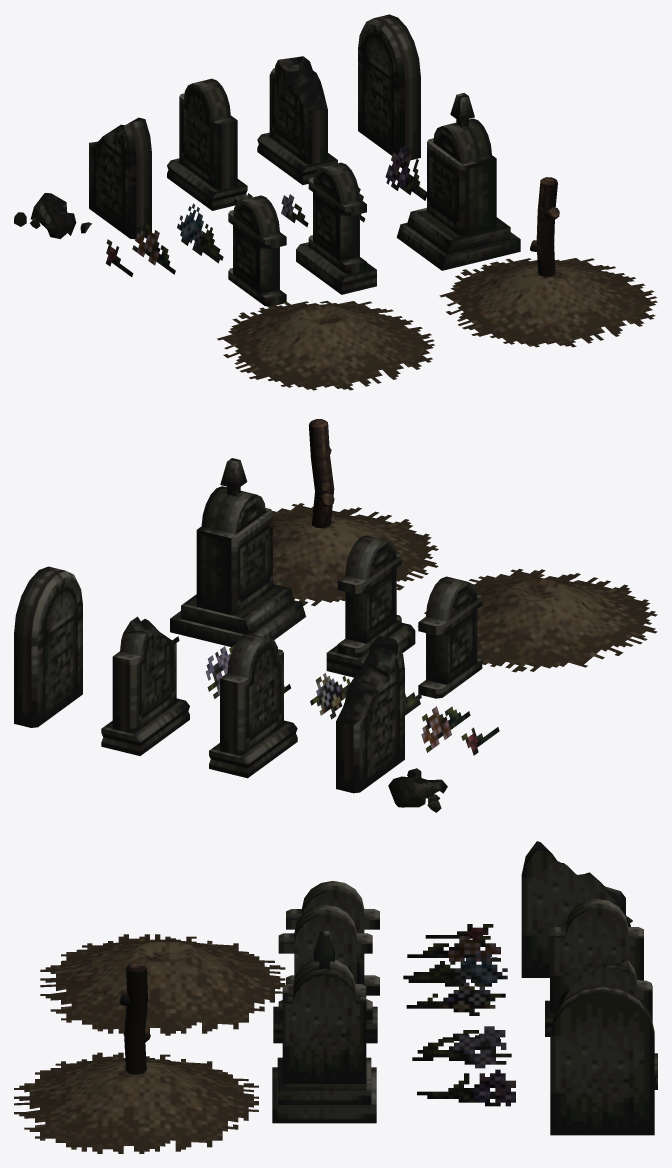
The model's file is EnvObjMD_Cemetery_A_Debris.FBX.
The picture shows the model from 3 angles, top to bottom: view 1: azimuth 30°, elevation 25°; view 2: azimuth 150°, elevation 25°; view 3: azimuth 270°, elevation 25°; orthographic projection. The views are drawn at different scales.
Parts seen in each view (by area): view 1: EnvObjMD_Cemetery_A_WoodStick, EnvObjMD_Cemetery_A_WoodStick_DesertSand, EnvObjMD_Cemetery_A_Shape_L, EnvObjMD_Cemetery_A_Round, EnvObjMD_Cemetery_A_Edge, EnvObjMD_Cemetery_A_Edge_Broken, EnvObjMD_Cemetery_A_Shape_M, EnvObjMD_Cemetery_A_Round_Broken, EnvObjMD_Cemetery_A_Shape_S, EnvObjMD_Cemetery_A_Debris, EnvObjMD_Cemetery_A_Flower_PaleBlue, EnvObjMD_Cemetery_A_Flower_Purple (+1 smaller); view 2: EnvObjMD_Cemetery_A_WoodStick_DesertSand, EnvObjMD_Cemetery_A_Shape_L, EnvObjMD_Cemetery_A_WoodStick, EnvObjMD_Cemetery_A_Round, EnvObjMD_Cemetery_A_Edge, EnvObjMD_Cemetery_A_Round_Broken, EnvObjMD_Cemetery_A_Edge_Broken, EnvObjMD_Cemetery_A_Shape_M, EnvObjMD_Cemetery_A_Shape_S, EnvObjMD_Cemetery_A_Debris, EnvObjMD_Cemetery_A_Flower_Pink, EnvObjMD_Cemetery_A_Flower_Mix (+1 smaller); view 3: EnvObjMD_Cemetery_A_WoodStick, EnvObjMD_Cemetery_A_WoodStick_DesertSand, EnvObjMD_Cemetery_A_Shape_L, EnvObjMD_Cemetery_A_Round, EnvObjMD_Cemetery_A_Edge, EnvObjMD_Cemetery_A_Round_Broken, EnvObjMD_Cemetery_A_Shape_M, EnvObjMD_Cemetery_A_Shape_S, EnvObjMD_Cemetery_A_Flower_PaleBlue, EnvObjMD_Cemetery_A_Flower_Lily, EnvObjMD_Cemetery_A_Edge_Broken, EnvObjMD_Cemetery_A_Flower_Purple (+3 smaller).
Boxes of the visible parts, box(x1,y1,x2,y2) form: EnvObjMD_Cemetery_A_WoodStick: box(439, 177, 657, 347); EnvObjMD_Cemetery_A_WoodStick_DesertSand: box(217, 301, 434, 390); EnvObjMD_Cemetery_A_Shape_L: box(396, 93, 520, 270); EnvObjMD_Cemetery_A_Round: box(358, 14, 420, 159); EnvObjMD_Cemetery_A_Edge: box(167, 78, 247, 210); EnvObjMD_Cemetery_A_Edge_Broken: box(257, 56, 337, 184); EnvObjMD_Cemetery_A_Shape_M: box(296, 162, 376, 294); EnvObjMD_Cemetery_A_Round_Broken: box(89, 117, 151, 239); EnvObjMD_Cemetery_A_Shape_S: box(228, 195, 286, 306); EnvObjMD_Cemetery_A_Debris: box(14, 193, 92, 239); EnvObjMD_Cemetery_A_Flower_PaleBlue: box(177, 203, 223, 263); EnvObjMD_Cemetery_A_Flower_Purple: box(385, 144, 426, 200); EnvObjMD_Cemetery_A_WoodStick_DesertSand: box(417, 569, 657, 672); EnvObjMD_Cemetery_A_Shape_L: box(170, 458, 305, 646); EnvObjMD_Cemetery_A_WoodStick: box(272, 419, 438, 606); EnvObjMD_Cemetery_A_Round: box(14, 566, 82, 727); EnvObjMD_Cemetery_A_Edge: box(209, 633, 297, 778); EnvObjMD_Cemetery_A_Round_Broken: box(336, 635, 404, 793); EnvObjMD_Cemetery_A_Edge_Broken: box(101, 616, 189, 755); EnvObjMD_Cemetery_A_Shape_M: box(326, 535, 415, 677); EnvObjMD_Cemetery_A_Shape_S: box(418, 576, 482, 698); EnvObjMD_Cemetery_A_Debris: box(388, 768, 447, 812); EnvObjMD_Cemetery_A_Flower_Pink: box(421, 706, 470, 752); EnvObjMD_Cemetery_A_Flower_Mix: box(310, 673, 350, 719); EnvObjMD_Cemetery_A_WoodStick: box(14, 961, 258, 1153); EnvObjMD_Cemetery_A_WoodStick_DesertSand: box(40, 934, 285, 1035); EnvObjMD_Cemetery_A_Shape_L: box(272, 931, 376, 1123); EnvObjMD_Cemetery_A_Round: box(550, 984, 654, 1135); EnvObjMD_Cemetery_A_Edge: box(545, 899, 643, 1036); EnvObjMD_Cemetery_A_Round_Broken: box(521, 841, 625, 977); EnvObjMD_Cemetery_A_Shape_M: box(273, 905, 377, 1043); EnvObjMD_Cemetery_A_Shape_S: box(286, 881, 379, 995); EnvObjMD_Cemetery_A_Flower_PaleBlue: box(403, 953, 507, 986); EnvObjMD_Cemetery_A_Flower_Lily: box(412, 1035, 511, 1068); EnvObjMD_Cemetery_A_Edge_Broken: box(559, 960, 657, 1089); EnvObjMD_Cemetery_A_Flower_Purple: box(417, 1069, 515, 1106).
Size of the model in its own units: 523 by 185 by 617.
1 material, 1 textured.
